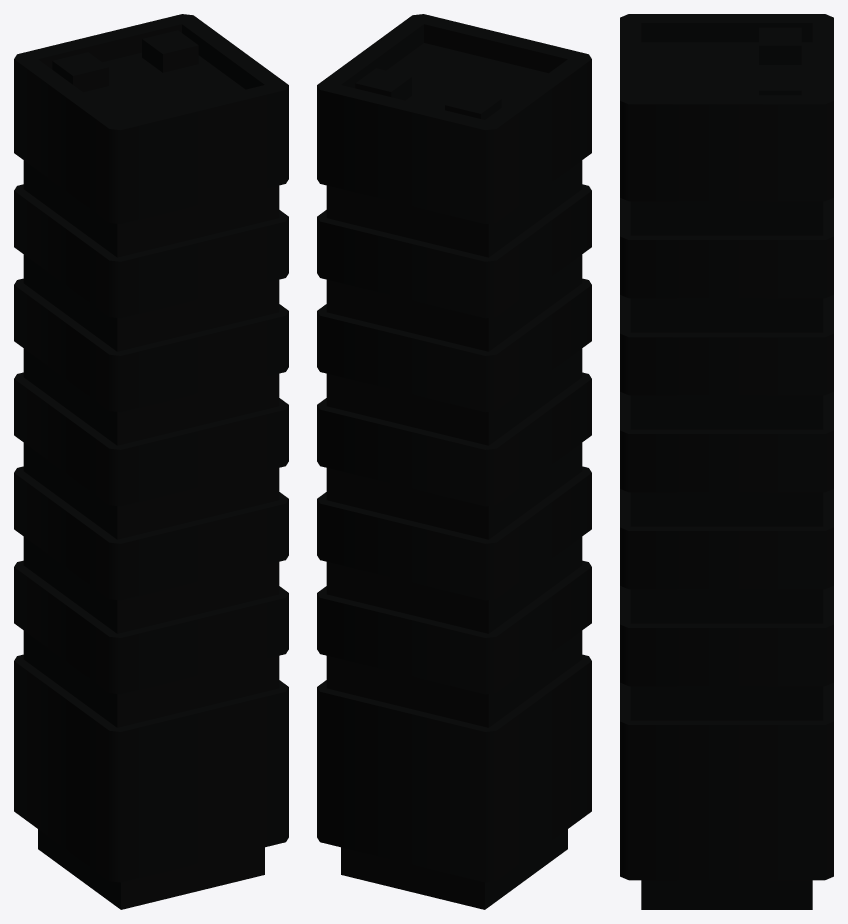
The model's file is low-detail-building-h.glb.
3 views of the same model, side by side, from view 1: azimuth 30°, elevation 25°; view 2: azimuth 150°, elevation 25°; view 3: azimuth 270°, elevation 25° (orthographic). The views are drawn at different scales.
Visible parts, largest first — view 1: low-detail-building-h; view 2: low-detail-building-h; view 3: low-detail-building-h.
Boxes of the visible parts, box(x1,y1,x2,y2) form: low-detail-building-h: box(14, 14, 288, 909); low-detail-building-h: box(317, 14, 591, 909); low-detail-building-h: box(620, 14, 833, 909).
Bounding box in the file's own units: 0.4996 × 2.1 × 0.4996.
Materials: 1 (1 with a texture image).
